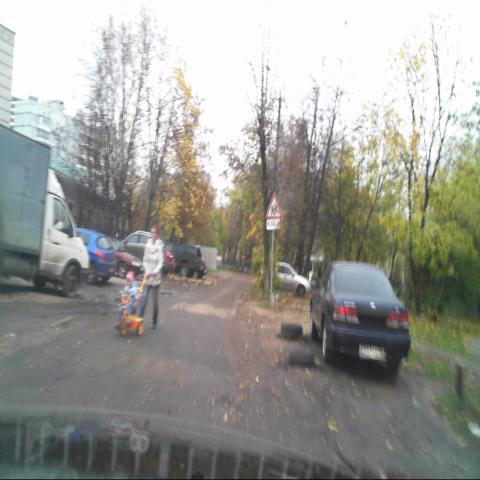1_23: (266, 193, 281, 217)
